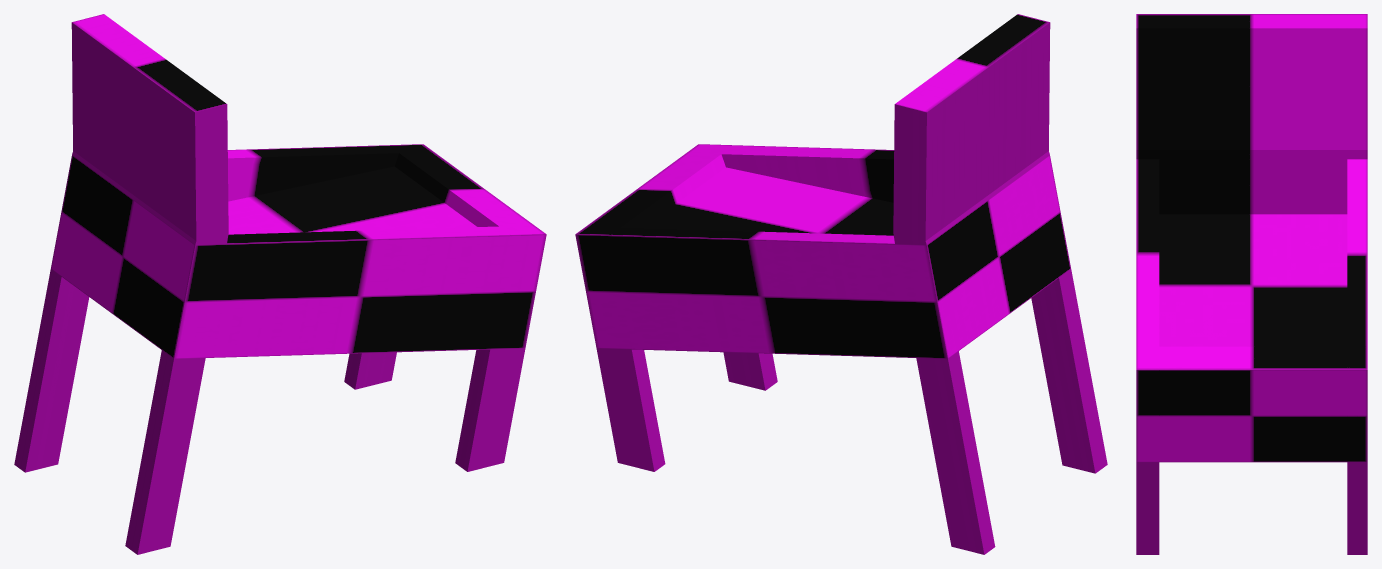
Rendered from fffdsa.glb.
3 views of the same model, side by side, from view 1: azimuth 30°, elevation 25°; view 2: azimuth 150°, elevation 25°; view 3: azimuth 270°, elevation 25° (orthographic). The views are drawn at different scales.
Visible parts, largest first — view 1: Cube; view 2: Cube; view 3: Cube.
Boxes of the visible parts, x1,y1,x2,y2 form: Cube: [14, 14, 546, 554]; Cube: [575, 14, 1107, 554]; Cube: [1136, 14, 1367, 554].
Size of the model in its own units: 3.23 by 3.23 by 1.68.
1 material, 1 textured.
